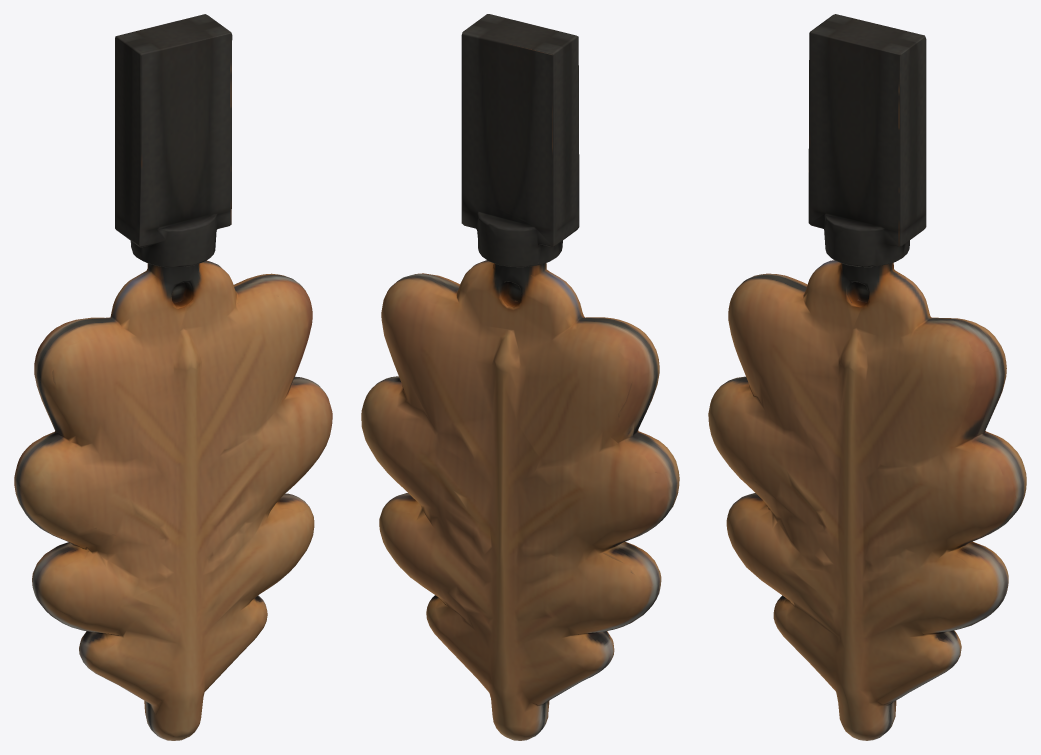
3 renders of one model, left to right at view 1: azimuth 30°, elevation 25°; view 2: azimuth 150°, elevation 25°; view 3: azimuth 330°, elevation 25°, orthographic.
Parts seen in each view (by area): view 1: oak-charm; view 2: oak-charm; view 3: oak-charm.
Boxes of the visible parts, x1,y1,x2,y2 form: oak-charm: (14, 14, 332, 740); oak-charm: (361, 14, 679, 740); oak-charm: (708, 14, 1026, 740).
Size of the model in its own units: 0.0776 by 0.168 by 0.0193.
1 material, 1 textured.
